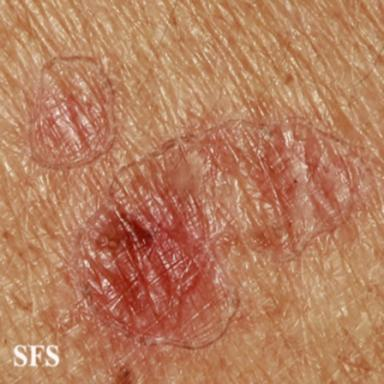Porokeratosis: (71, 120, 356, 347), (31, 58, 115, 167)
